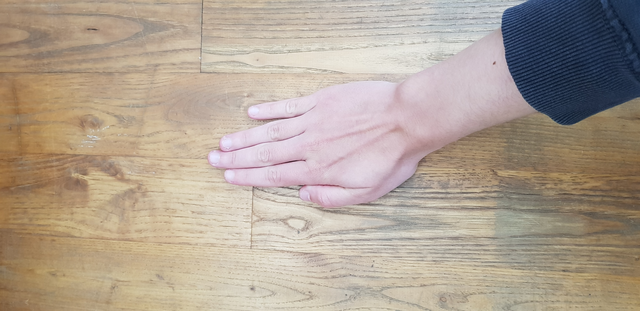Paper: (172, 85, 452, 222)
